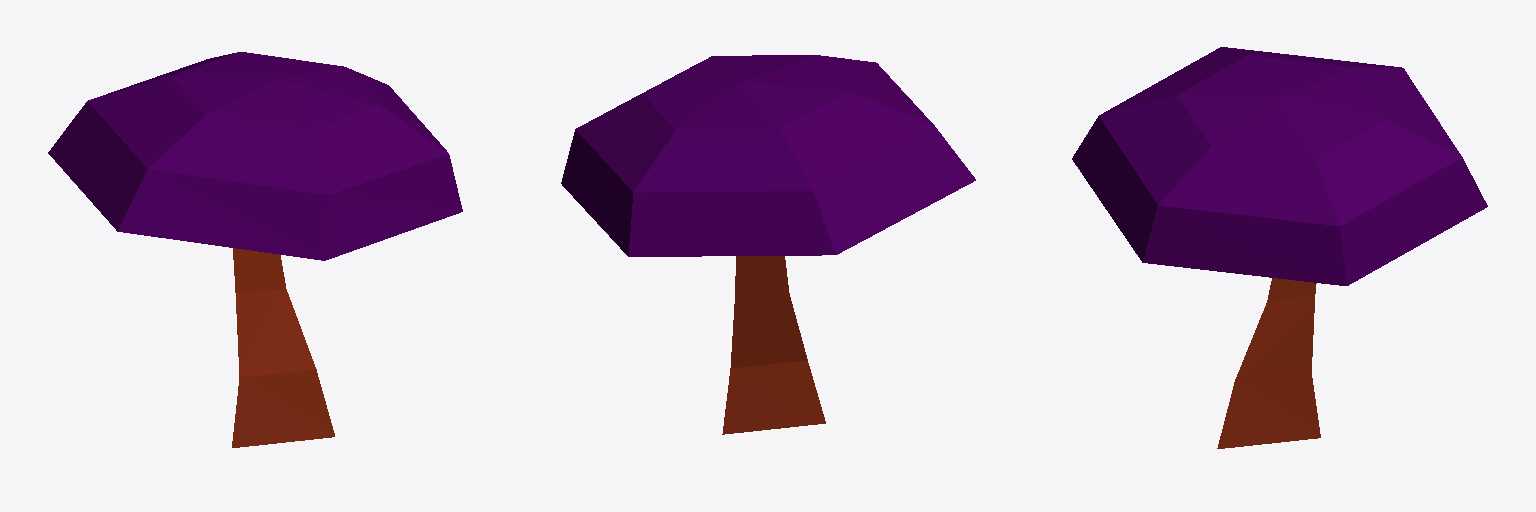
The model's file is mush3.obj.
3 views of the same model, side by side, from view 1: azimuth 30°, elevation 25°; view 2: azimuth 150°, elevation 25°; view 3: azimuth 270°, elevation 25° (orthographic).
Visible parts, largest first — view 1: Cylinder.002; view 2: Cylinder.002; view 3: Cylinder.002.
Part boxes in pixels (x1,y1,x2,y2): Cylinder.002: (48,52,462,447); Cylinder.002: (561,55,975,434); Cylinder.002: (1072,47,1487,448).
Bounding box in the file's own units: 1.2 × 1.13 × 1.25.